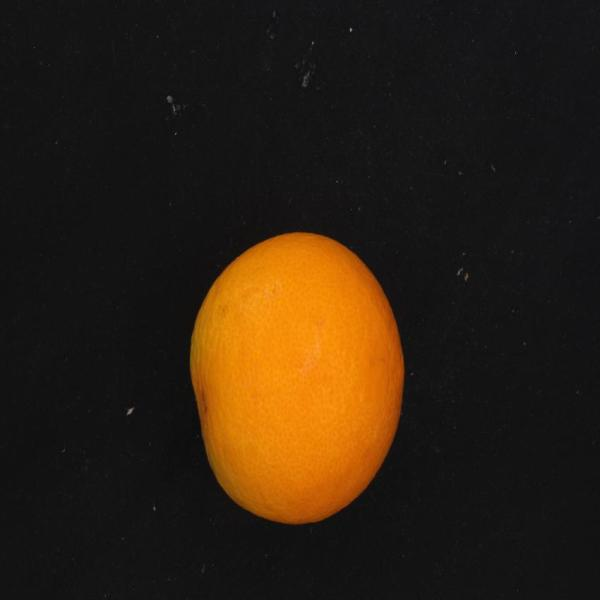Sana: (184, 218, 404, 534)
